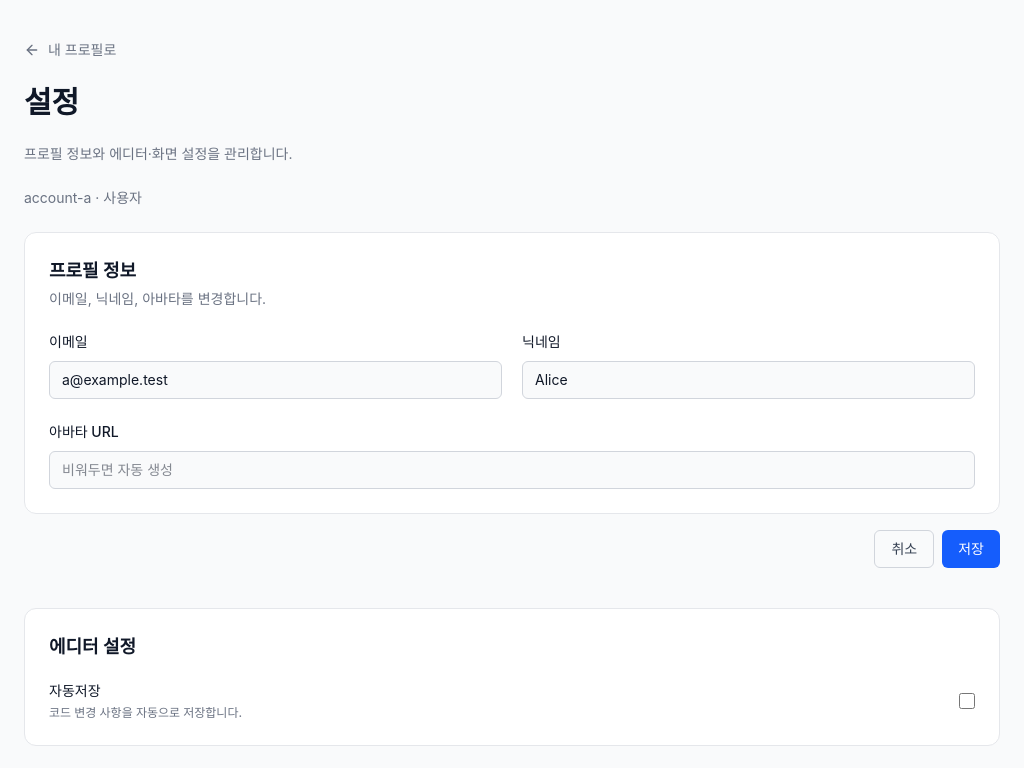
Test: settings profile editor › retains the page after save, publishes new values, and supports clearing
Clear the field labelled "닉네임": point(748, 380) [522,361,975,399]
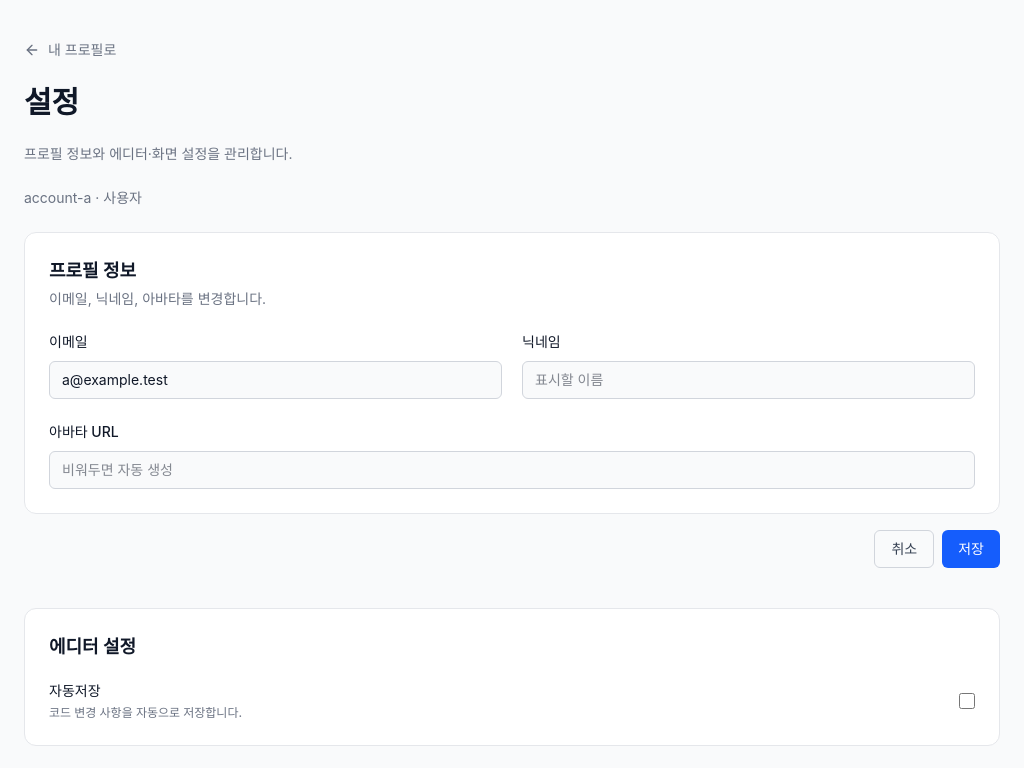
Clear the field labelled "이메일": point(276, 380) [49,361,502,399]
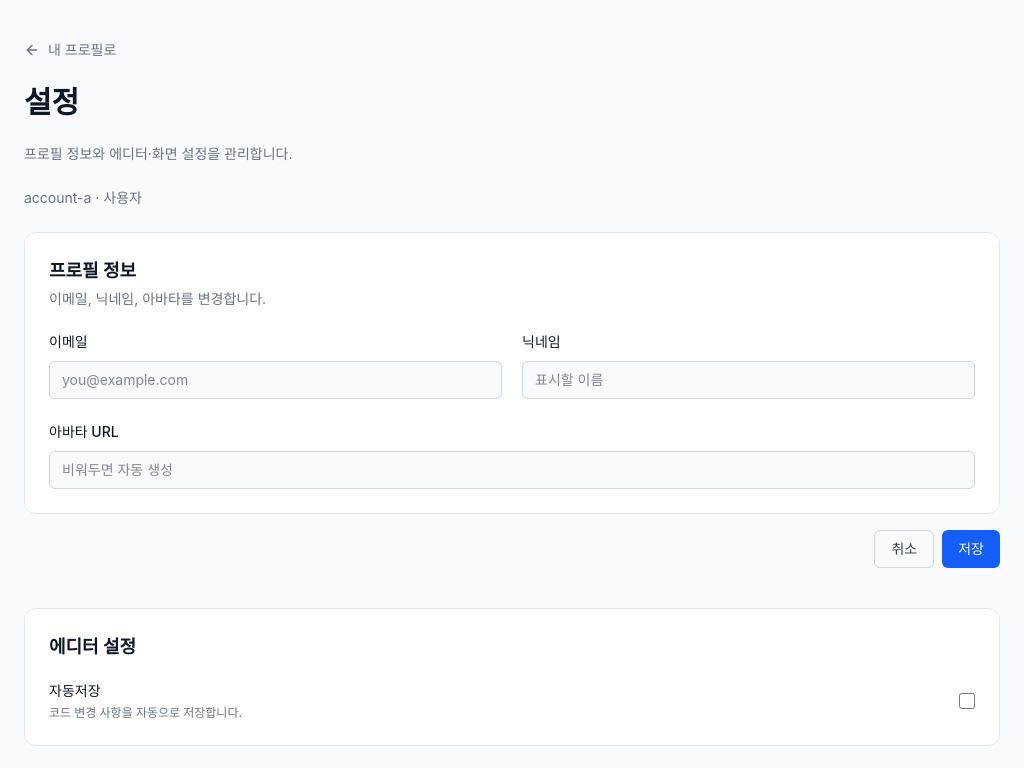
Click the button "저장": point(971, 549) [942,530,1000,568]
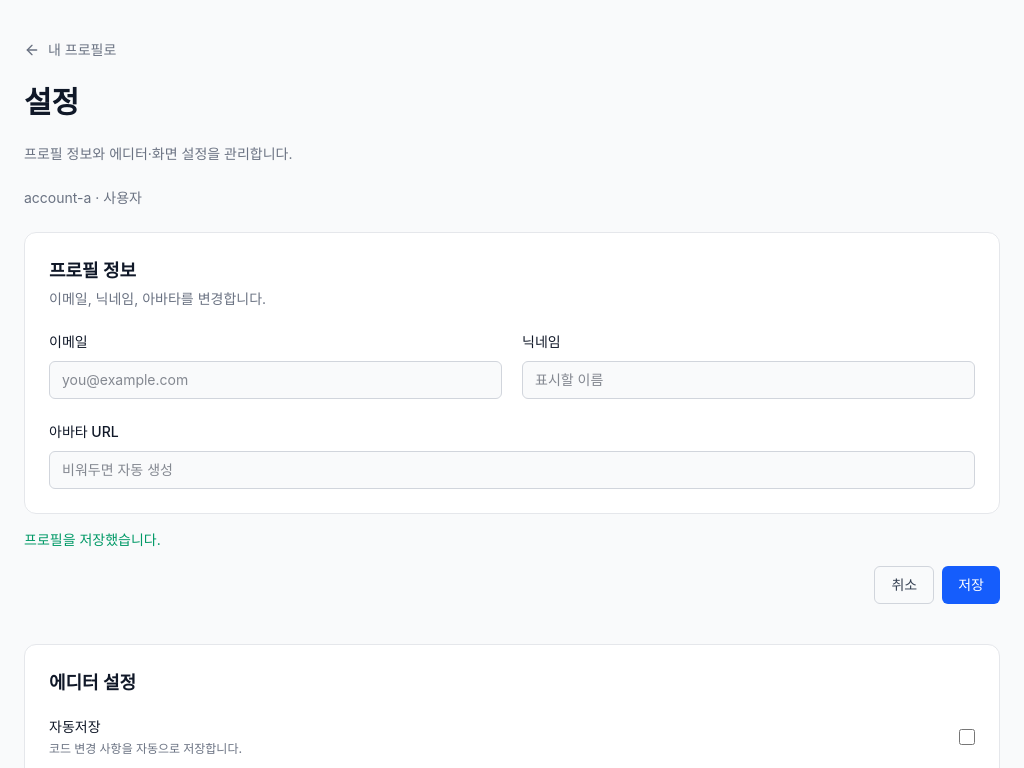
Expected: the heading "설정" is shown, [24,84,79,120]
Expected: the text "프로필을 저장했습니다." is shown, [24,531,161,548]
